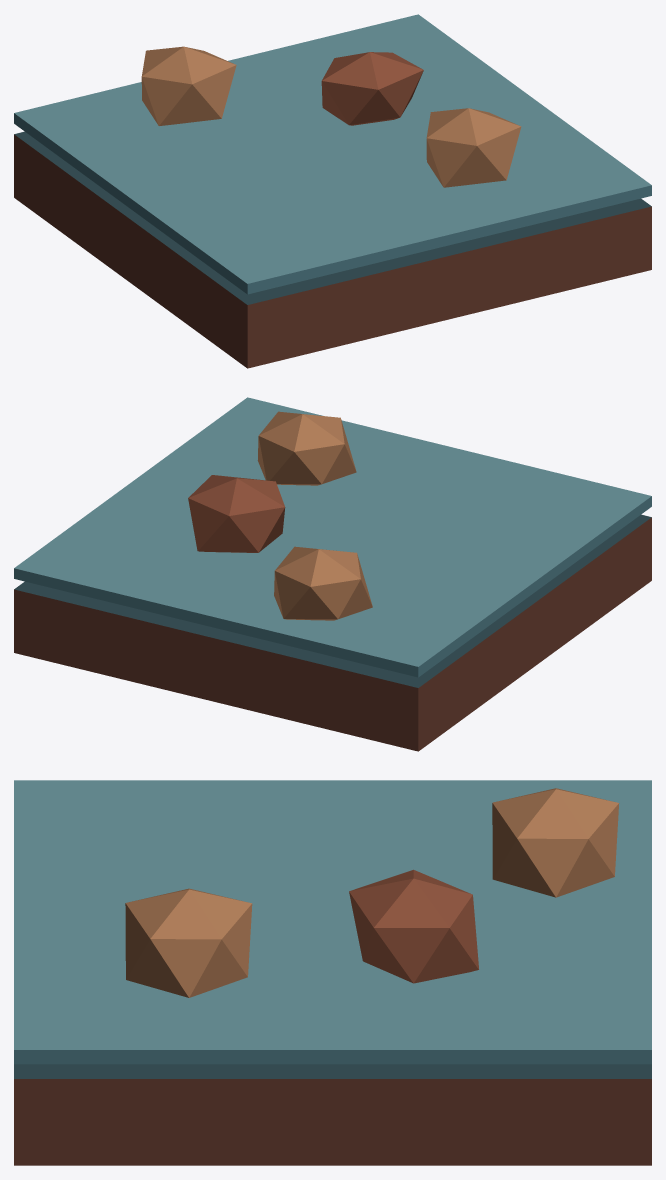
Rendered from t_gorge_floor.glb.
The picture shows the model from 3 angles, top to bottom: view 1: azimuth 30°, elevation 25°; view 2: azimuth 150°, elevation 25°; view 3: azimuth 270°, elevation 25°; orthographic projection. The views are drawn at different scales.
Visible parts, largest first — view 1: t_gorge_floor_water, t_gorge_floor; view 2: t_gorge_floor_water, t_gorge_floor; view 3: t_gorge_floor_water, t_gorge_floor.
Boxes of the visible parts, x1=… form: t_gorge_floor_water: x1=14, y1=14, x2=651, y2=294; t_gorge_floor: x1=14, y1=46, x2=651, y2=368; t_gorge_floor_water: x1=14, y1=397, x2=651, y2=677; t_gorge_floor: x1=14, y1=411, x2=651, y2=751; t_gorge_floor_water: x1=14, y1=780, x2=651, y2=1064; t_gorge_floor: x1=14, y1=788, x2=651, y2=1165.
Size of the model in its own units: 2 by 0.68 by 2.
